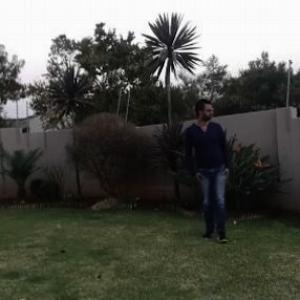follow: (190, 94, 233, 244)
